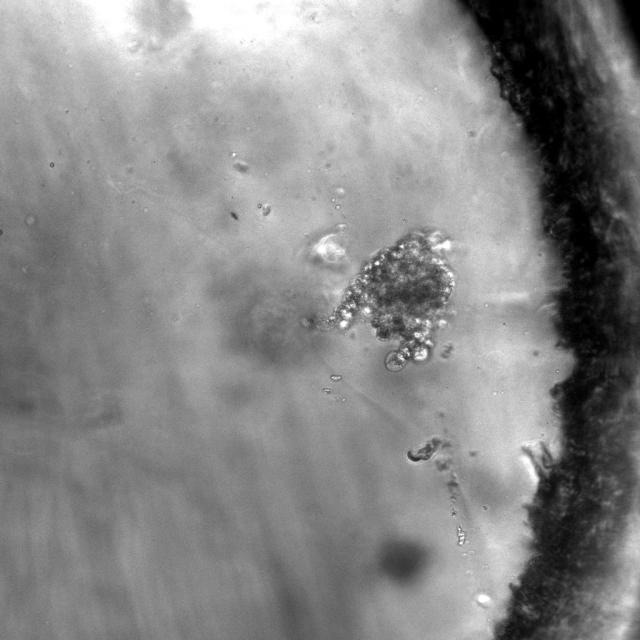organoid: (314, 229, 454, 369), (407, 436, 441, 461)
